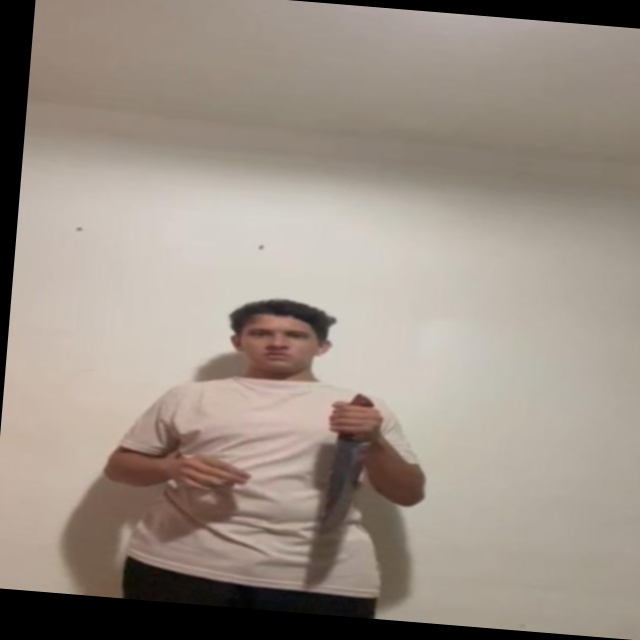Sharp-Object: (318, 436, 370, 533)
